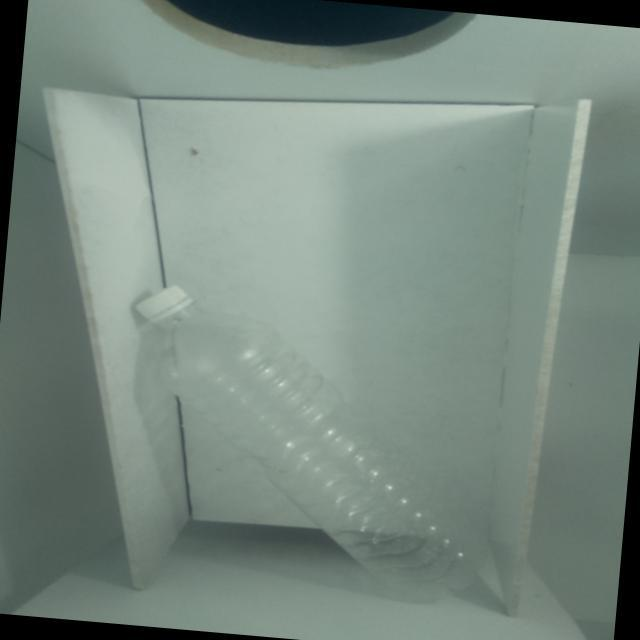good: (85, 236, 512, 614)
